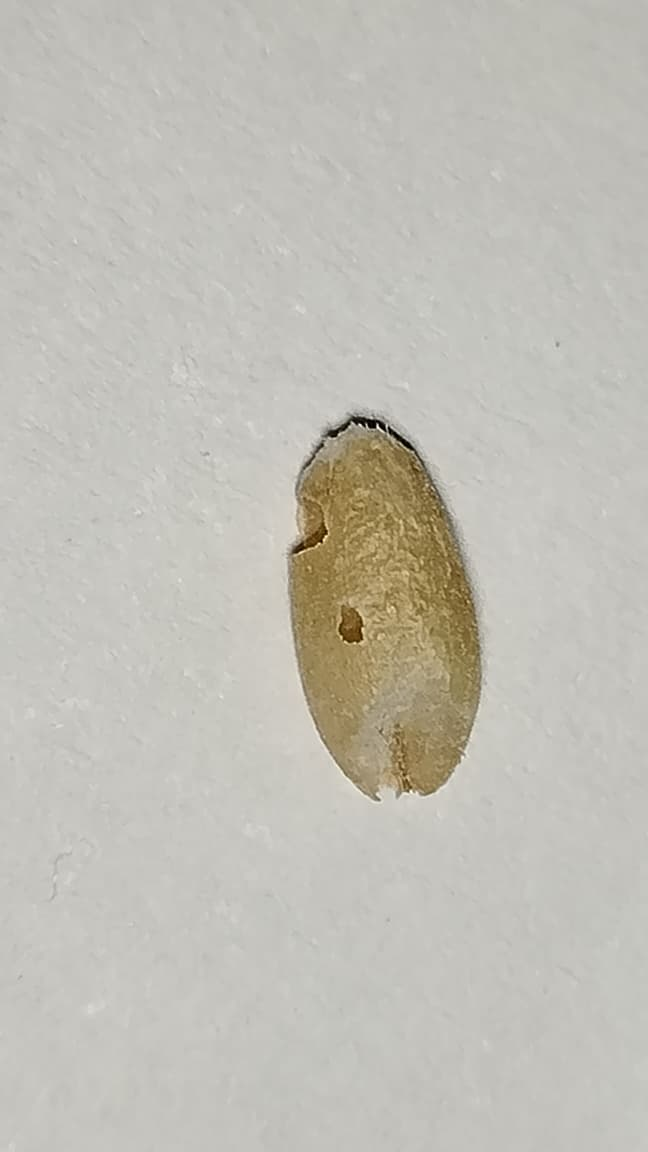damage: (288, 416, 483, 800)
insectdamage: (348, 665, 482, 798), (281, 479, 349, 573), (300, 603, 393, 652)
